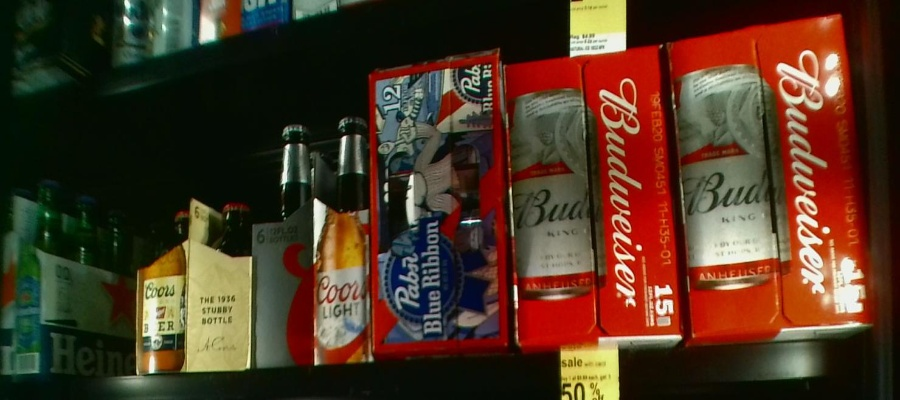bottle: (670, 31, 873, 342), (502, 55, 676, 337), (371, 65, 511, 351), (251, 115, 369, 362), (6, 178, 134, 370), (137, 194, 254, 370)
